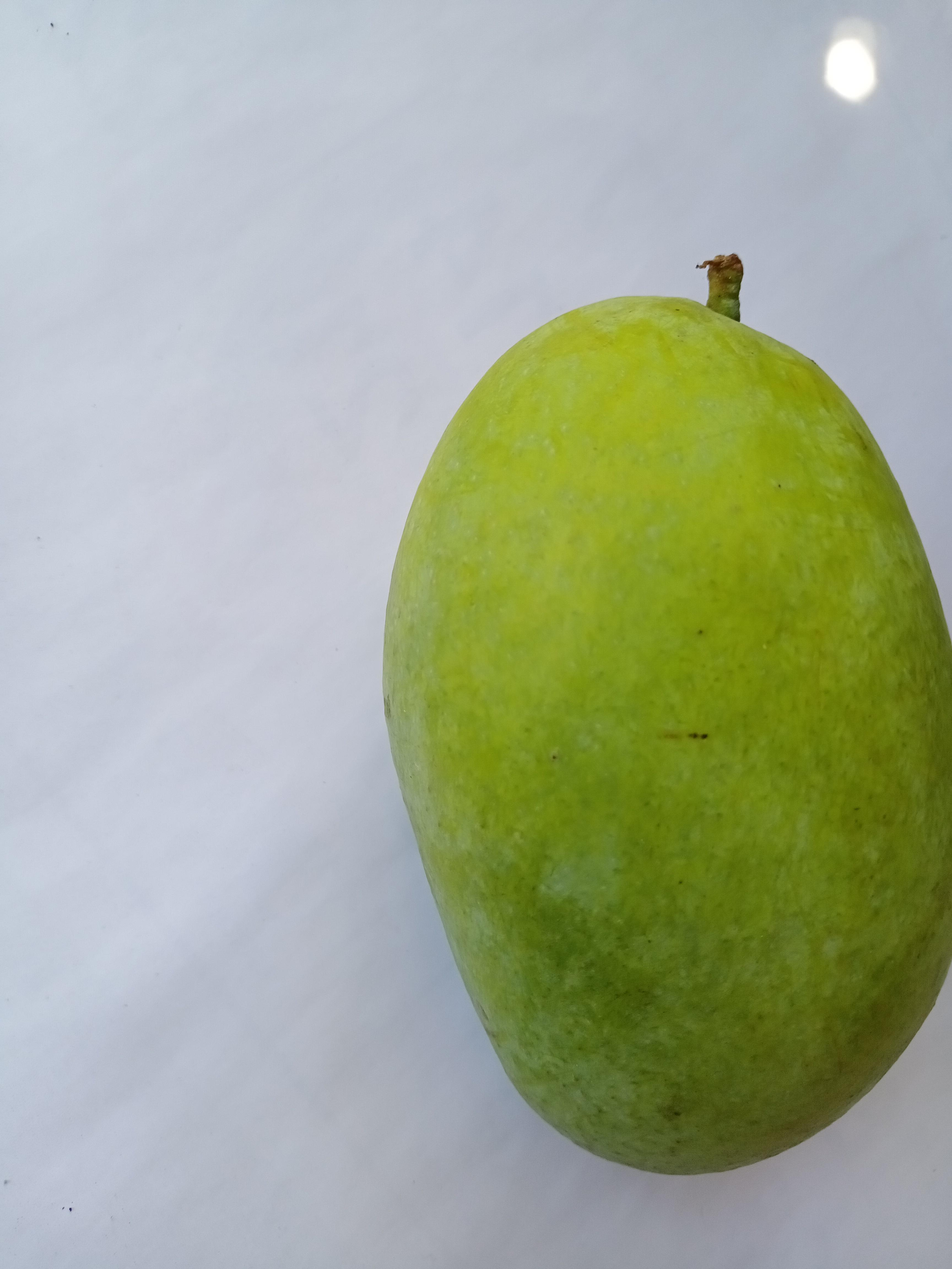Mango Unripe: (328, 213, 952, 1195)
